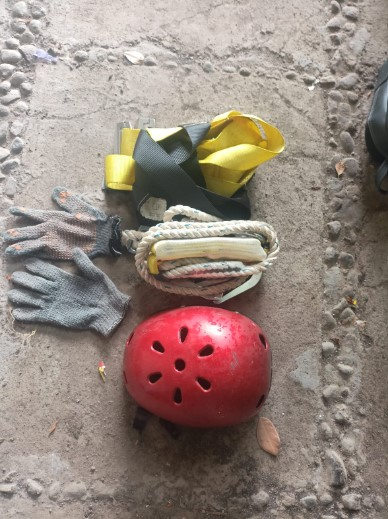SARUNG_TANGAN: (6, 204, 116, 260)
